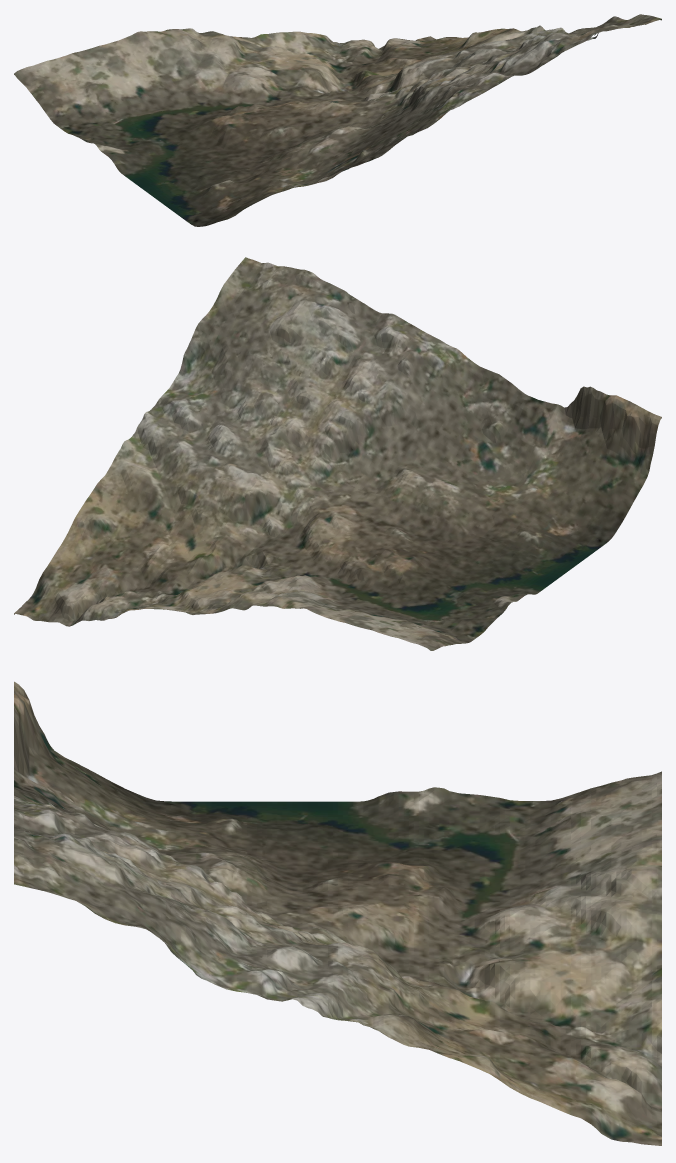
3 views of the same model, one above another, from view 1: azimuth 30°, elevation 25°; view 2: azimuth 150°, elevation 25°; view 3: azimuth 270°, elevation 25° (orthographic). The views are drawn at different scales.
Bounding box in the file's own units: 250 × 111 × 241.
Materials: 1 (1 with a texture image).
